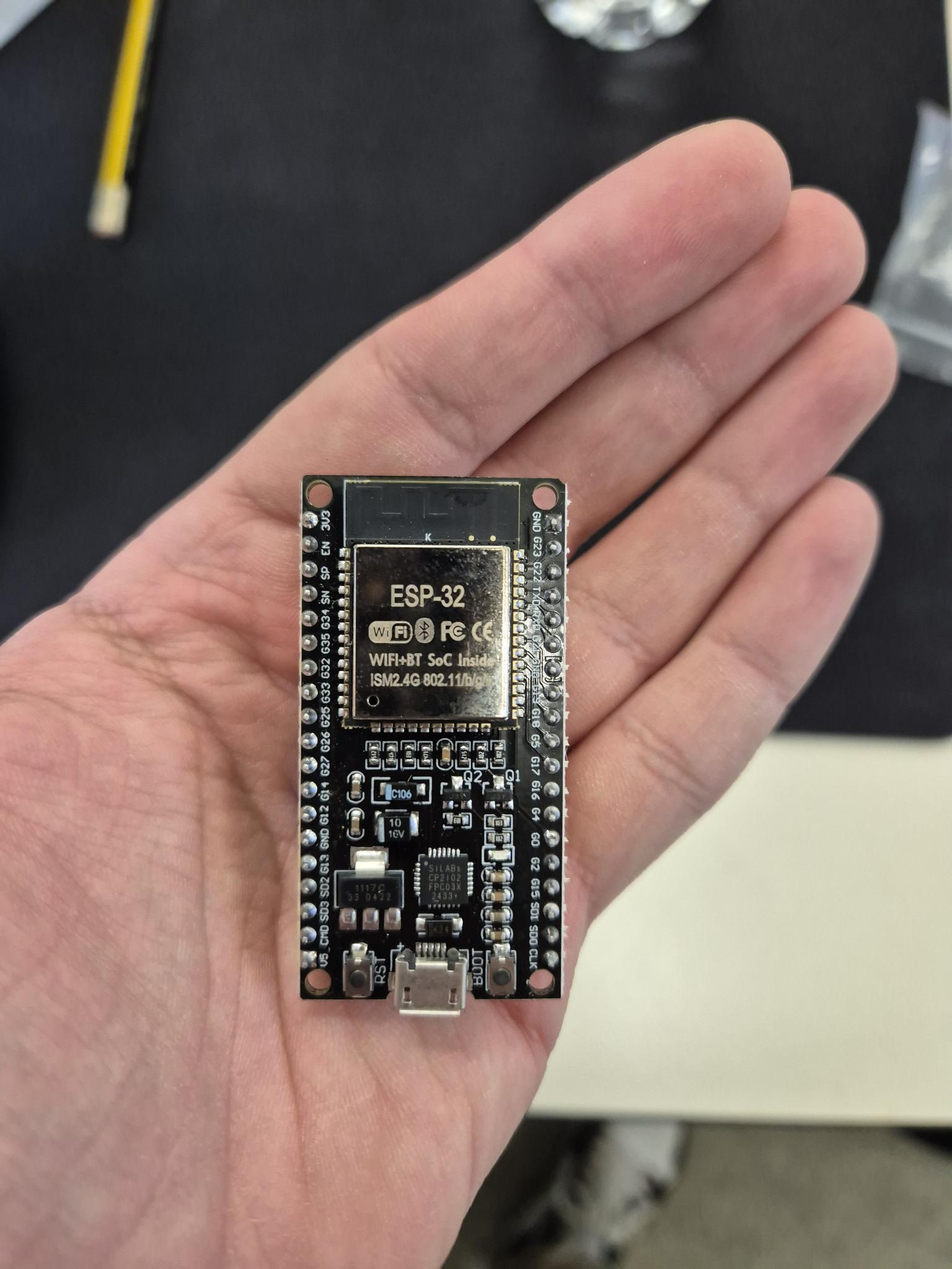esp32-dev: (300, 476, 566, 1015)
